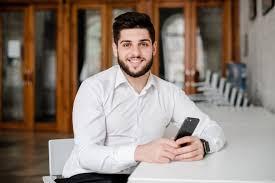middle_eastern_male: (115, 27, 155, 78)
